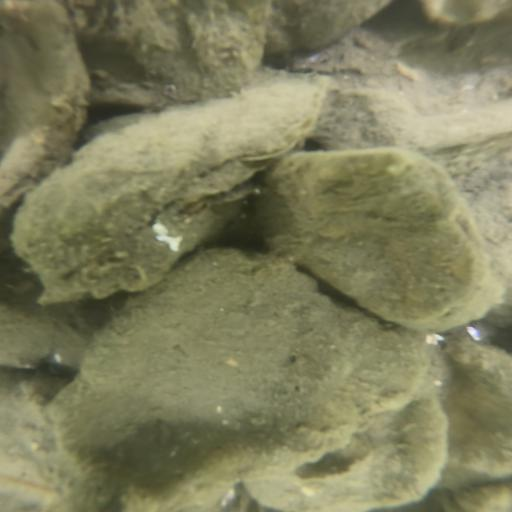Oyster-Closed: (55, 257, 434, 510), (11, 84, 338, 308), (261, 147, 482, 323), (240, 393, 446, 512), (265, 2, 398, 55)
